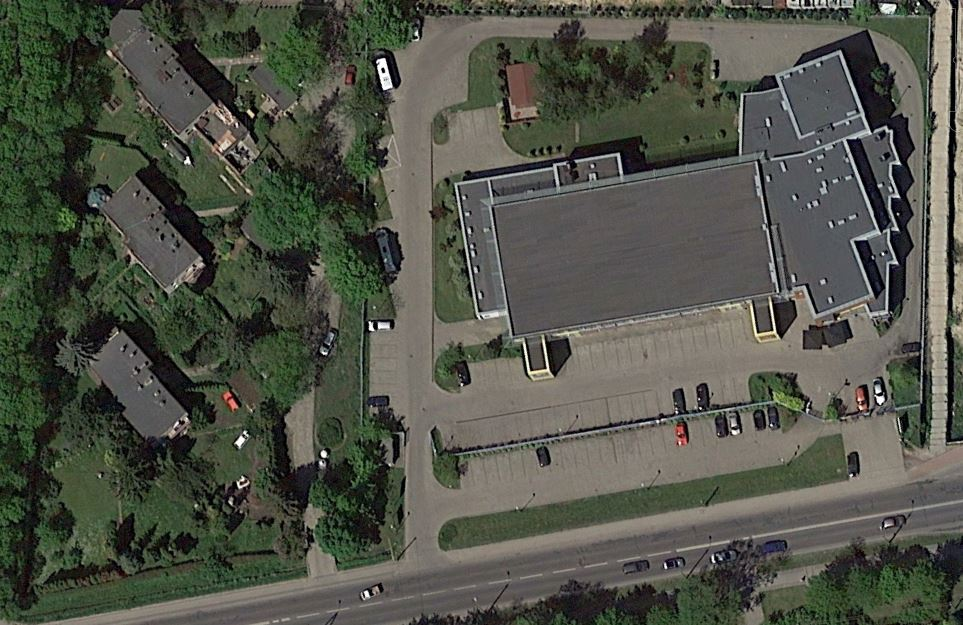block of flats: (105, 9, 224, 148), (76, 324, 202, 455), (93, 176, 204, 294)
shopping_center: (447, 43, 908, 384)
